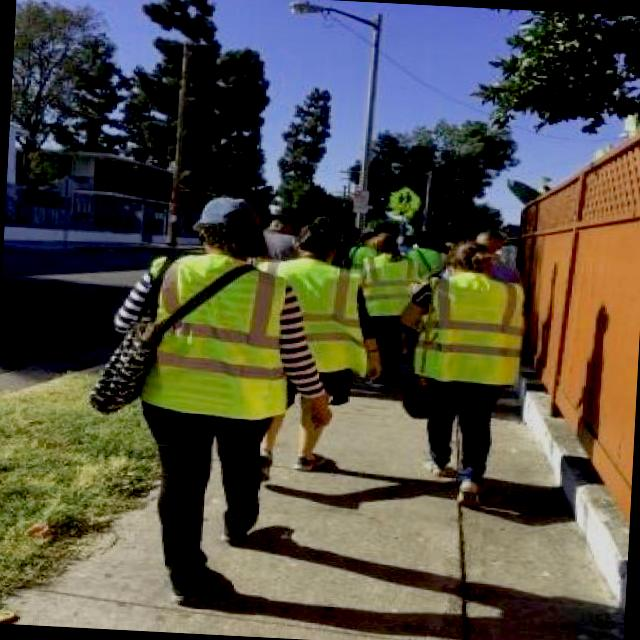vest: (132, 244, 322, 428), (412, 274, 533, 406), (359, 262, 431, 341)
